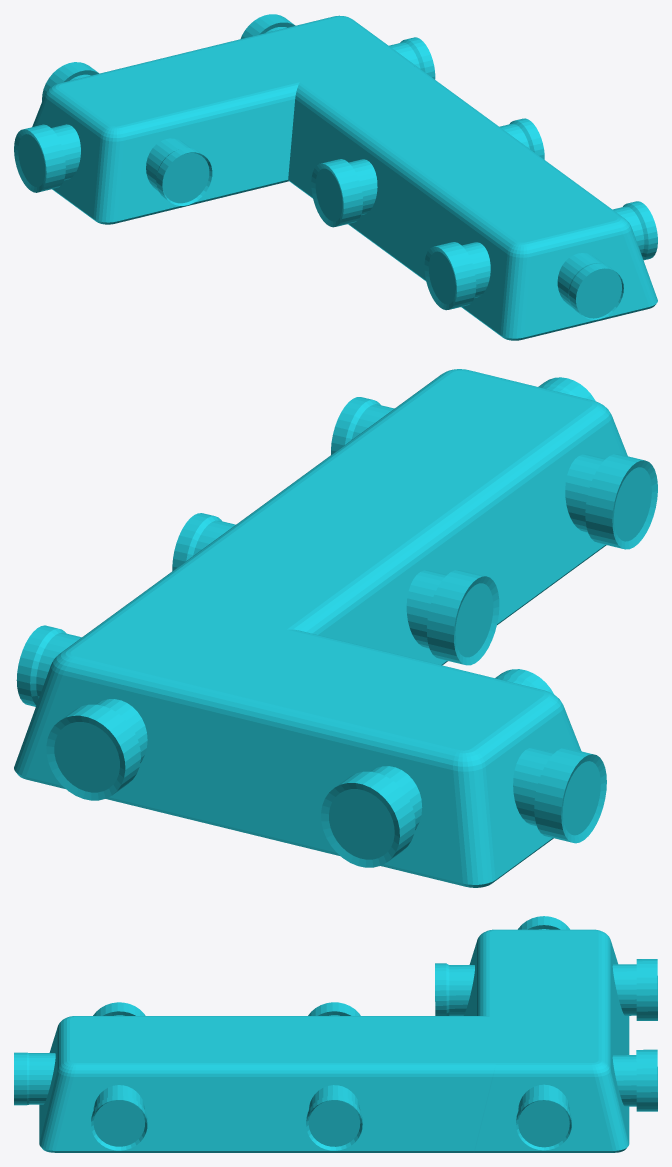
The model's file is Num32.fbx.
3 views of the same model, one above another, from view 1: azimuth 30°, elevation 25°; view 2: azimuth 150°, elevation 25°; view 3: azimuth 270°, elevation 25° (orthographic). The views are drawn at different scales.
Visible parts, largest first — view 1: Cube.013; view 2: Cube.013; view 3: Cube.013.
Part boxes in pixels (left/top/right/bottom): Cube.013: left=14, top=14, right=657, bottom=340; Cube.013: left=14, top=369, right=657, bottom=887; Cube.013: left=14, top=916, right=657, bottom=1152.
Size of the model in its own units: 4.98 by 1 by 7.48.
